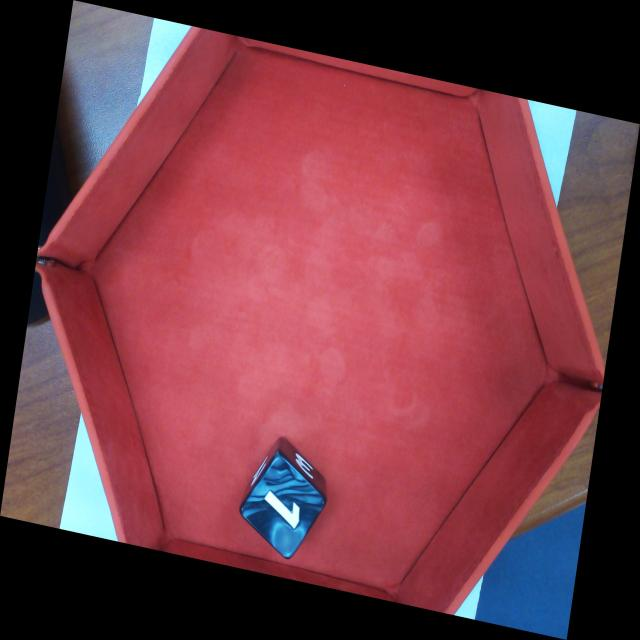dice: (238, 454, 329, 563)
